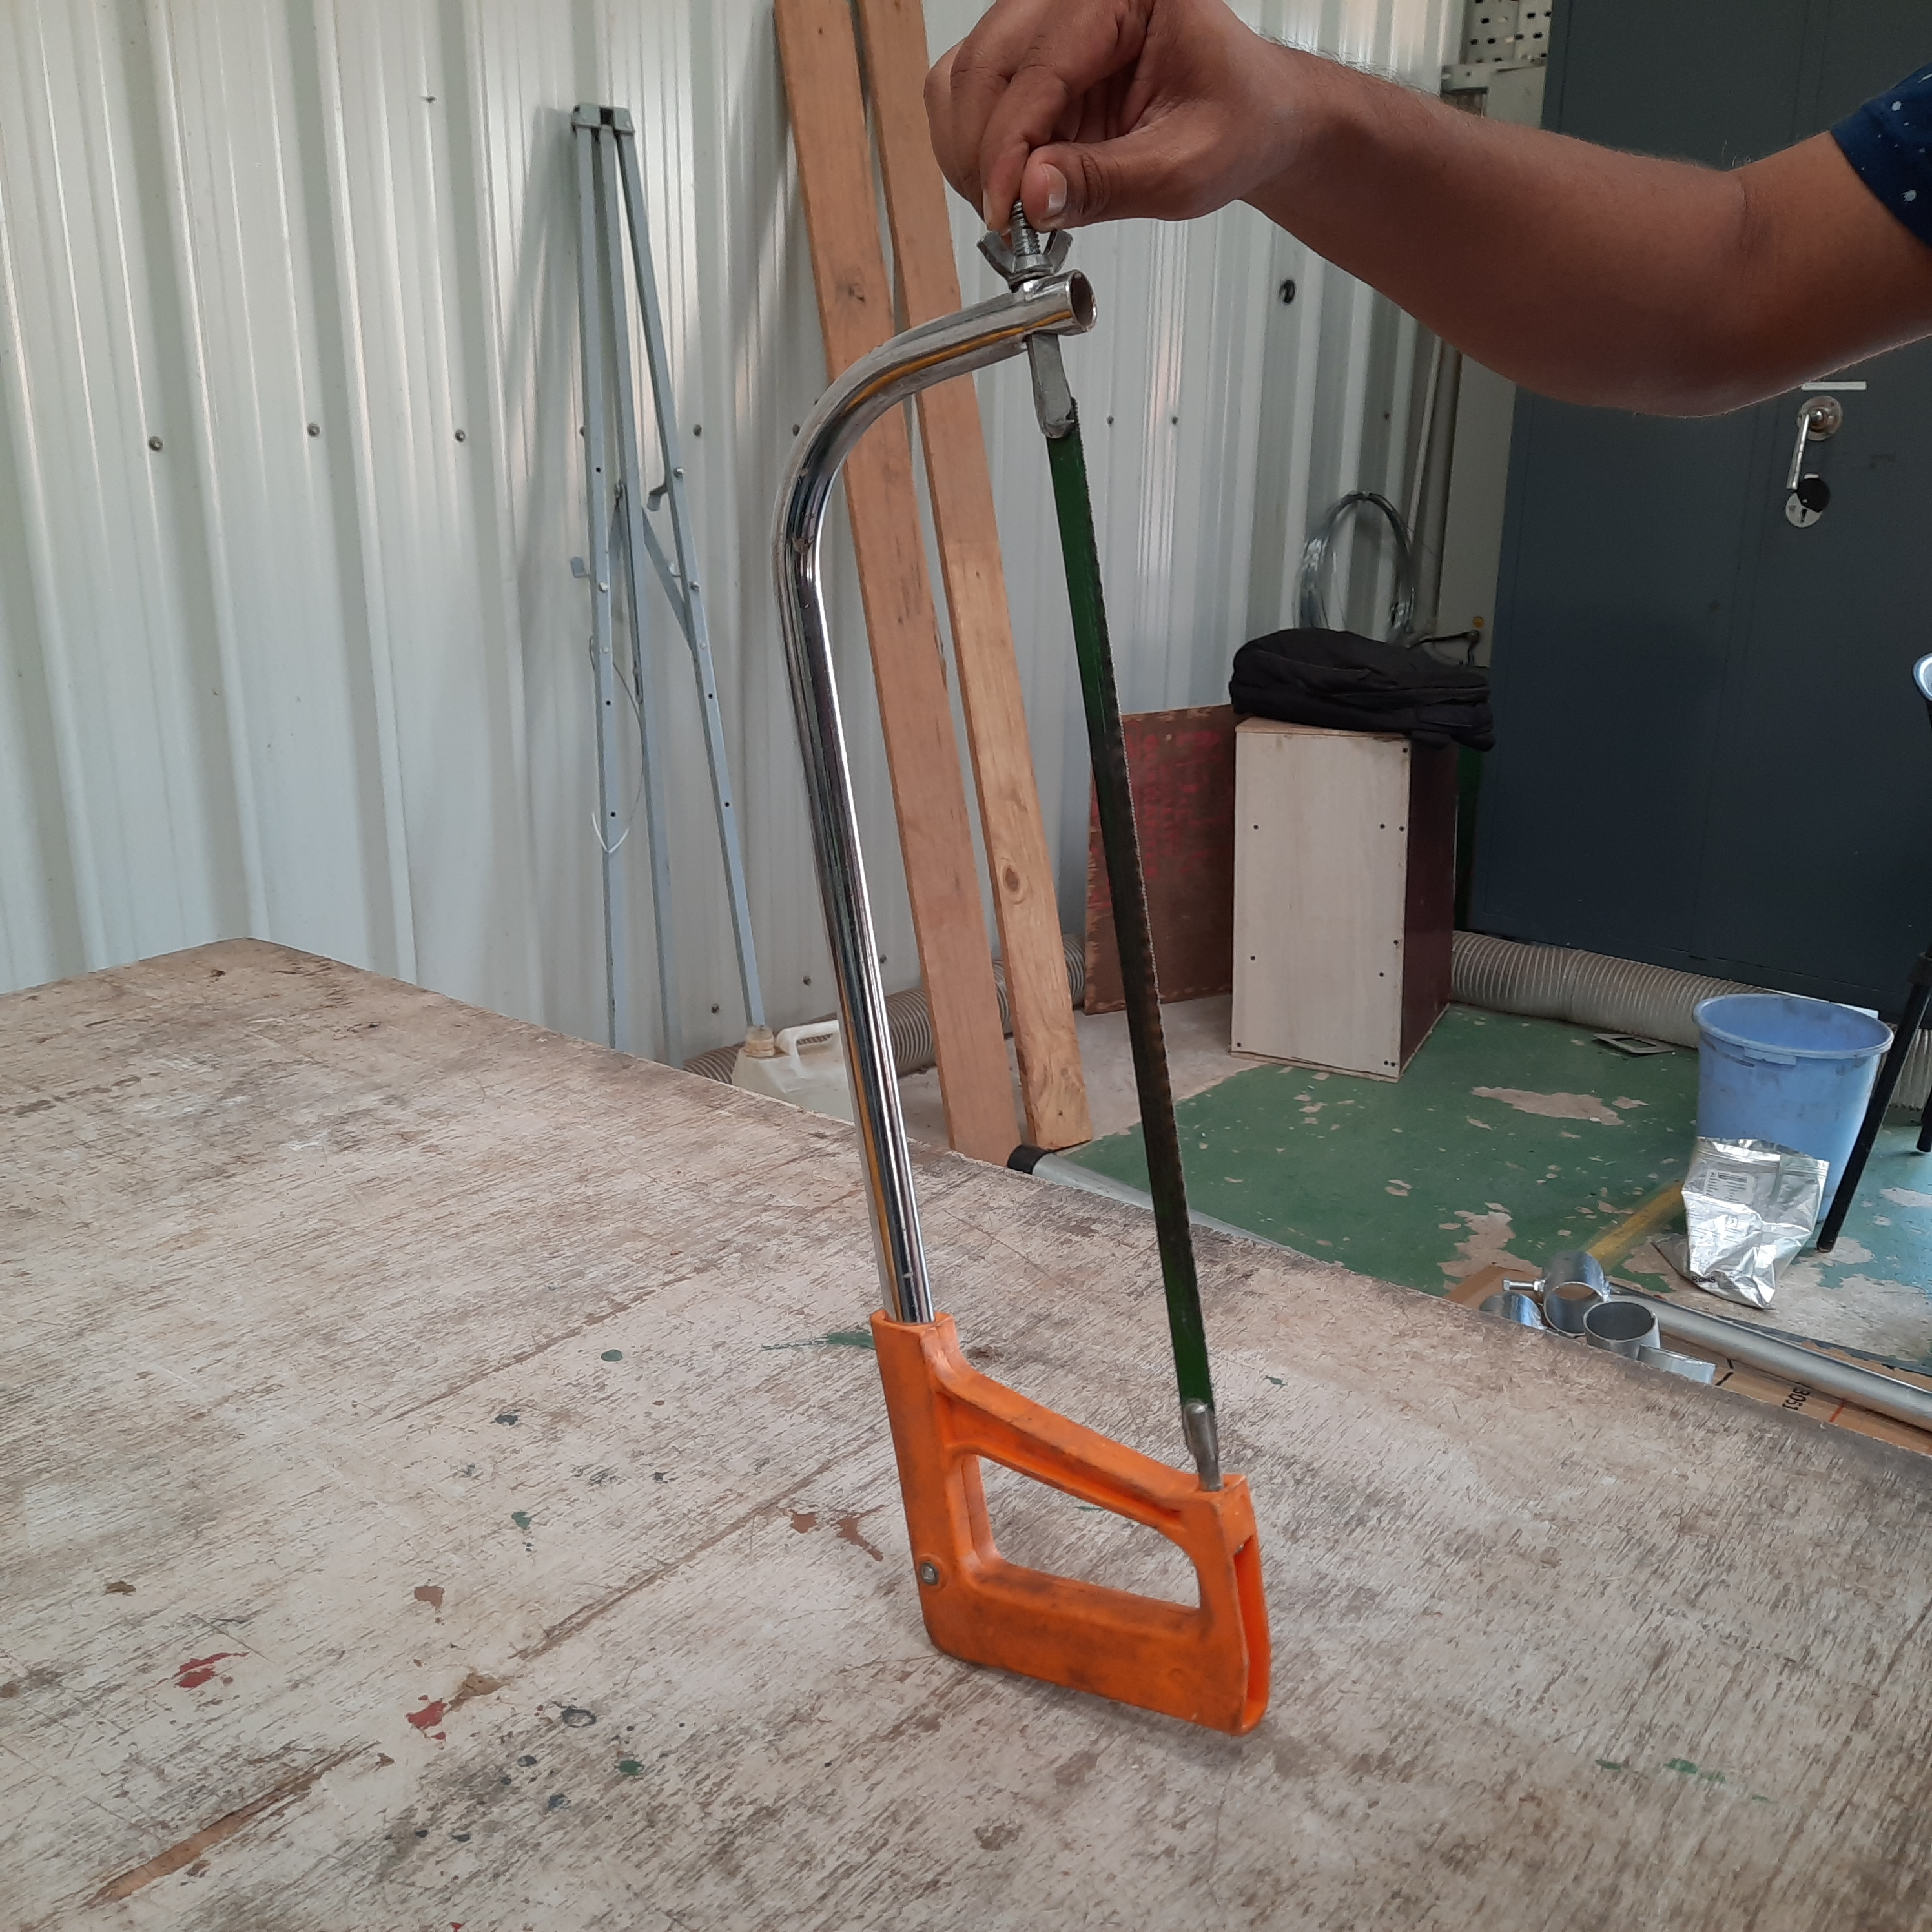Hexaframe: (720, 211, 1382, 1773)
